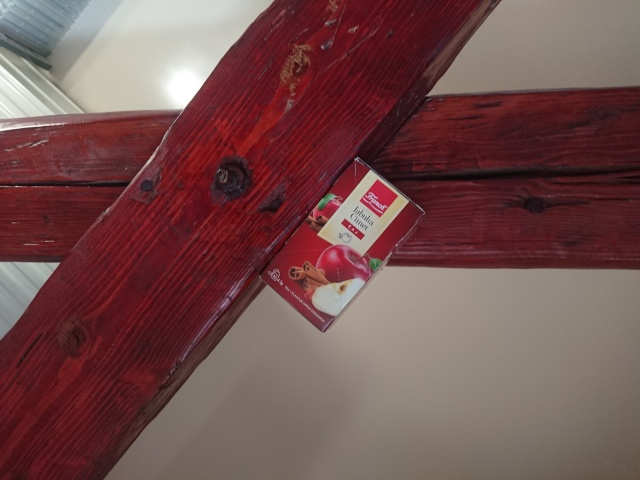Franck Apple Cinnamon Tea 60g: (255, 153, 428, 335)
